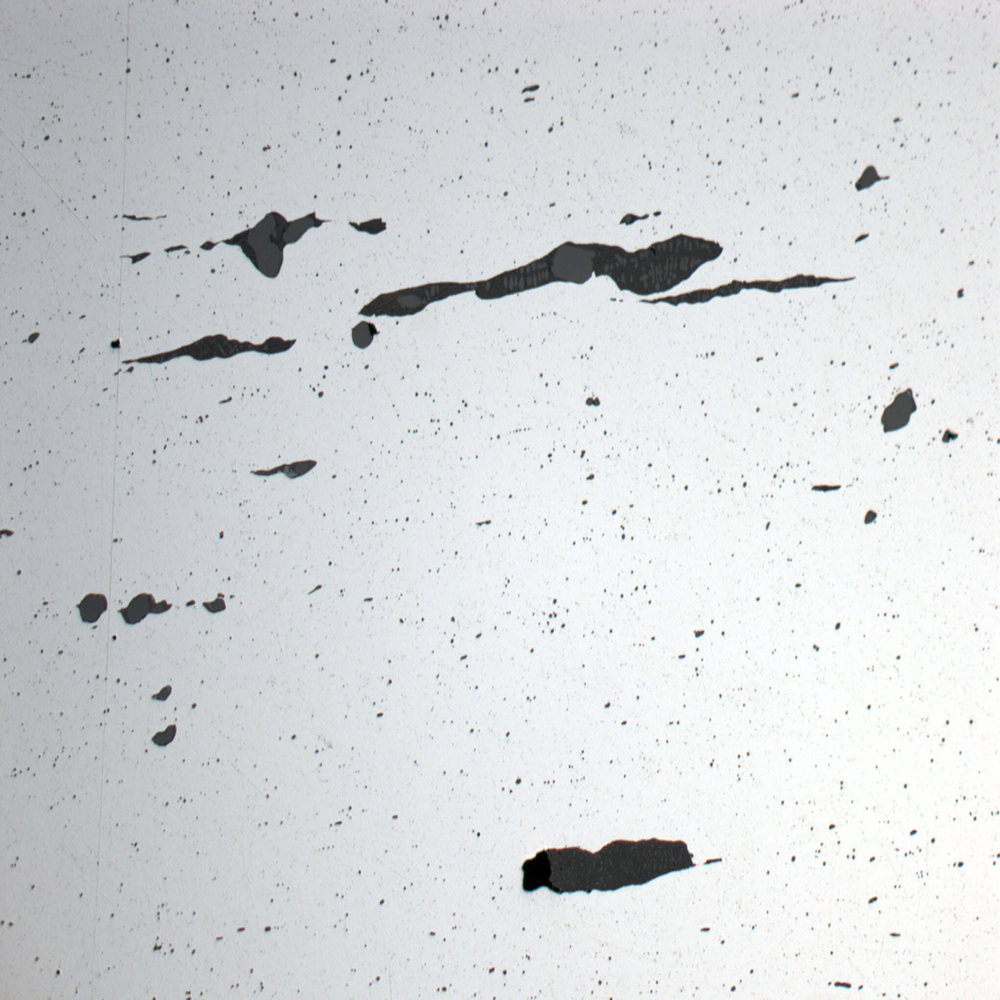crack: (335, 212, 882, 334), (38, 576, 288, 777), (75, 209, 404, 289), (484, 813, 741, 910), (96, 328, 330, 379), (860, 373, 970, 460), (230, 458, 331, 483)
